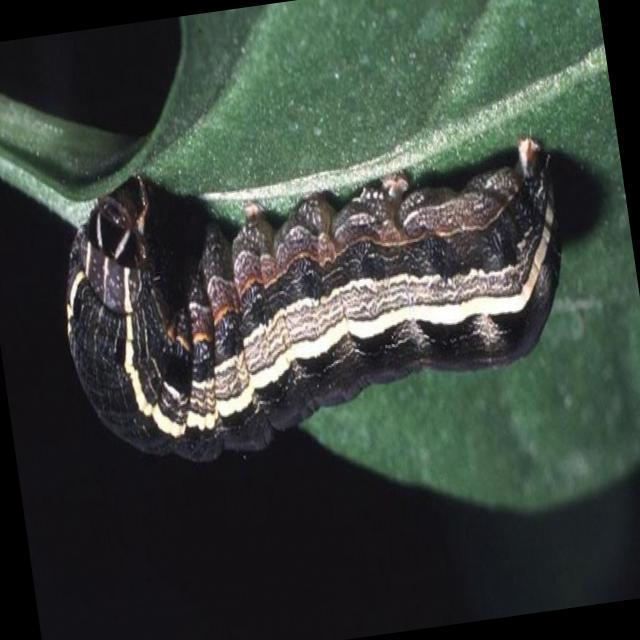Plaga: (38, 98, 600, 511)
